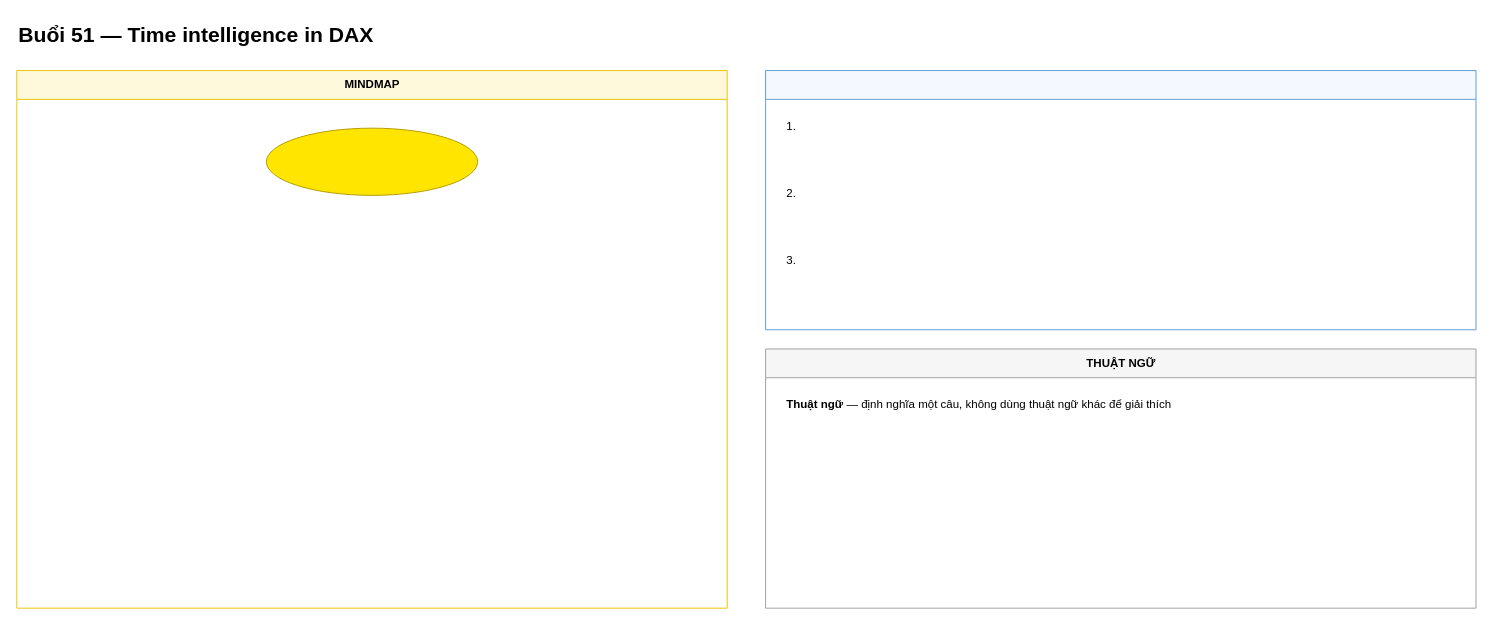
This 1493x625 diagram has some shape labels left out. The shapes that lost their labels are listed below. From the top down, each one's box as (x1, y1, x2, y2) in pixels, then its label:
(265, 127, 478, 195): Time intelligence in DAX
(765, 70, 1476, 330): KEY TAKEAWAY — ba điều phải nhớ
